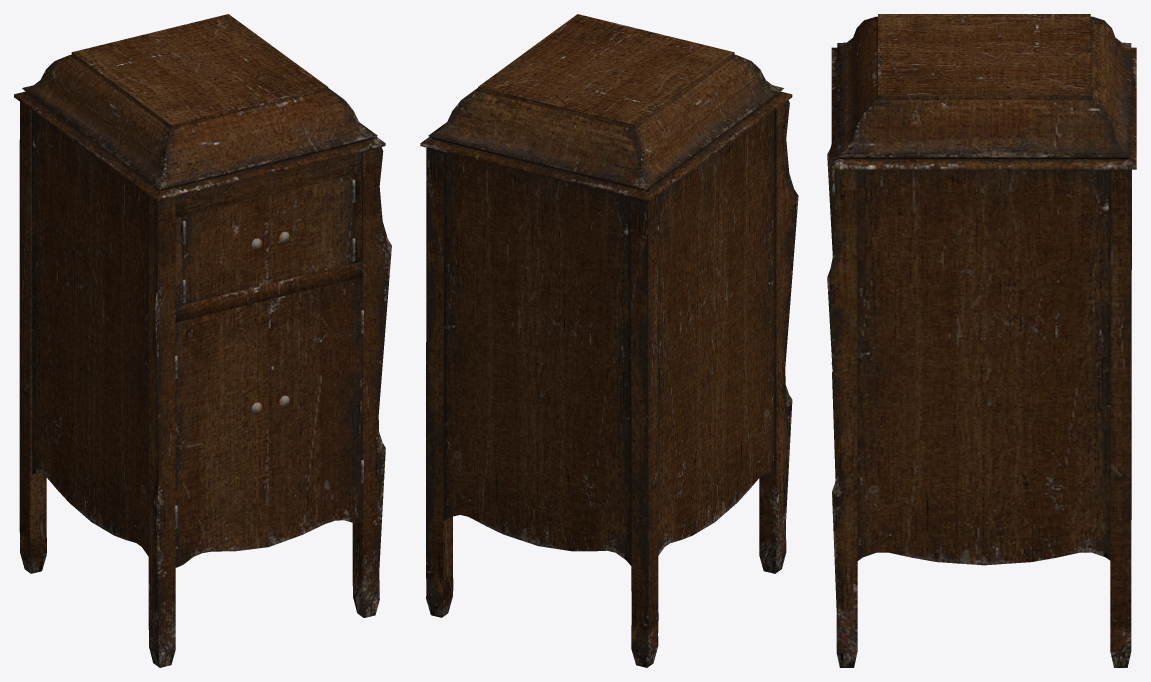
File: 142_RecordPlayer.fbx
The picture shows the model from 3 angles, left to right: view 1: azimuth 30°, elevation 25°; view 2: azimuth 150°, elevation 25°; view 3: azimuth 270°, elevation 25°; orthographic projection. The views are drawn at different scales.
Parts seen in each view (by area): view 1: LOD_1_Group_0_Sub_1__sm30_142_RecordPlayer02A_A_Mat; view 2: LOD_1_Group_0_Sub_1__sm30_142_RecordPlayer02A_A_Mat; view 3: LOD_1_Group_0_Sub_1__sm30_142_RecordPlayer02A_A_Mat.
Part boxes in pixels (box(x1,y1,x2,y2)): LOD_1_Group_0_Sub_1__sm30_142_RecordPlayer02A_A_Mat: box(14, 14, 391, 667); LOD_1_Group_0_Sub_1__sm30_142_RecordPlayer02A_A_Mat: box(420, 14, 798, 667); LOD_1_Group_0_Sub_1__sm30_142_RecordPlayer02A_A_Mat: box(827, 14, 1136, 667).
Bounding box in the file's own units: 0.5974 × 1.26 × 0.6348.
